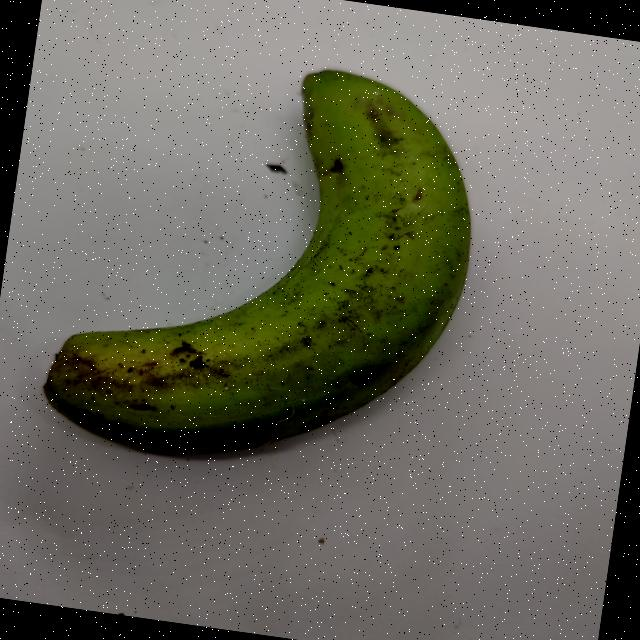Raw: (2, 2, 526, 518)
